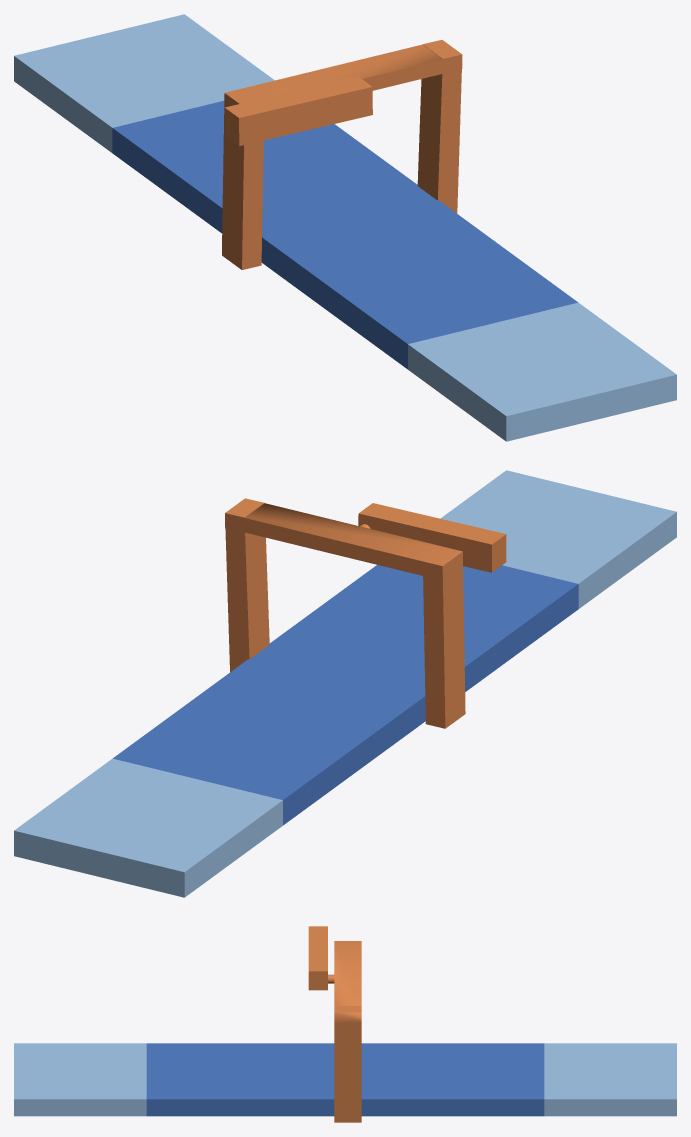
Rendered from woodSwing.fbx.
The picture shows the model from 3 angles, top to bottom: view 1: azimuth 30°, elevation 25°; view 2: azimuth 150°, elevation 25°; view 3: azimuth 270°, elevation 25°; orthographic projection. The views are drawn at different scales.
Visible parts, largest first — view 1: floor, mechanism; view 2: floor, mechanism; view 3: floor, mechanism.
Part boxes in pixels (bbox=[...]): floor: bbox=[14, 14, 676, 441]; mechanism: bbox=[222, 40, 462, 269]; floor: bbox=[14, 470, 676, 897]; mechanism: bbox=[225, 498, 506, 728]; floor: bbox=[14, 1043, 676, 1116]; mechanism: bbox=[308, 926, 361, 1122].
Size of the model in its own units: 497 by 344 by 1750.
